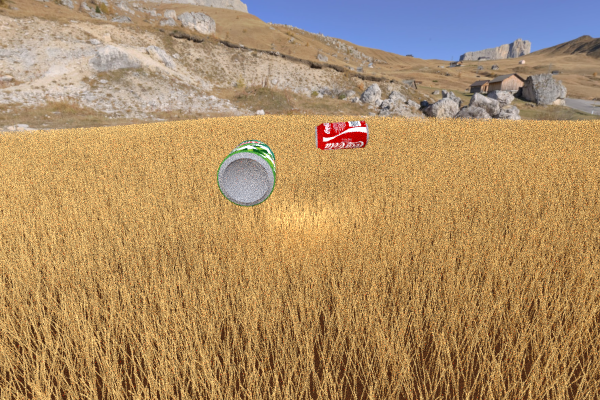bottle: (26, 137, 104, 204)
can: (216, 139, 275, 206), (315, 120, 368, 150)
